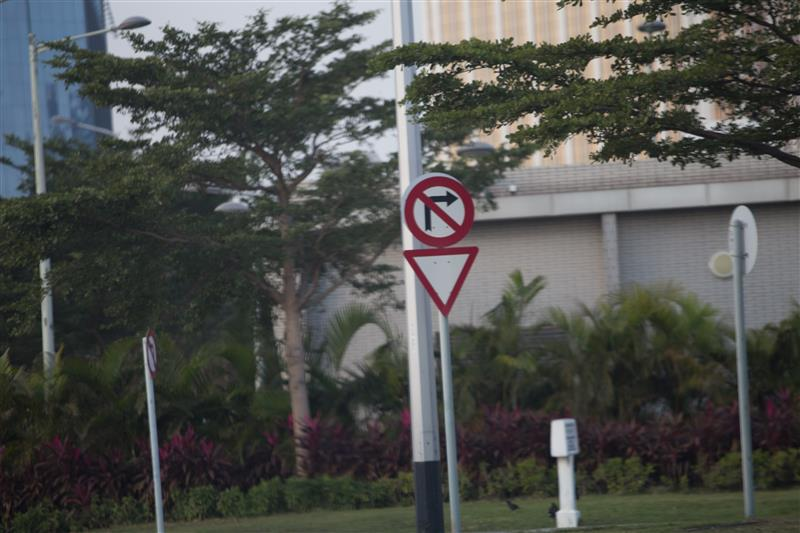noRightTurn: (405, 174, 478, 247)
yield: (401, 248, 487, 319)
